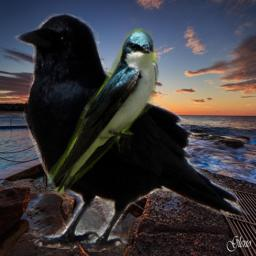Crow: (11, 11, 251, 252)
Swallow: (47, 28, 160, 199)
